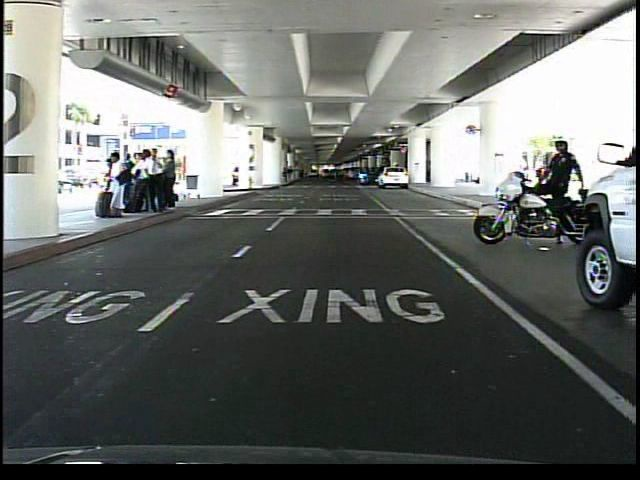person: (536, 130, 582, 252)
